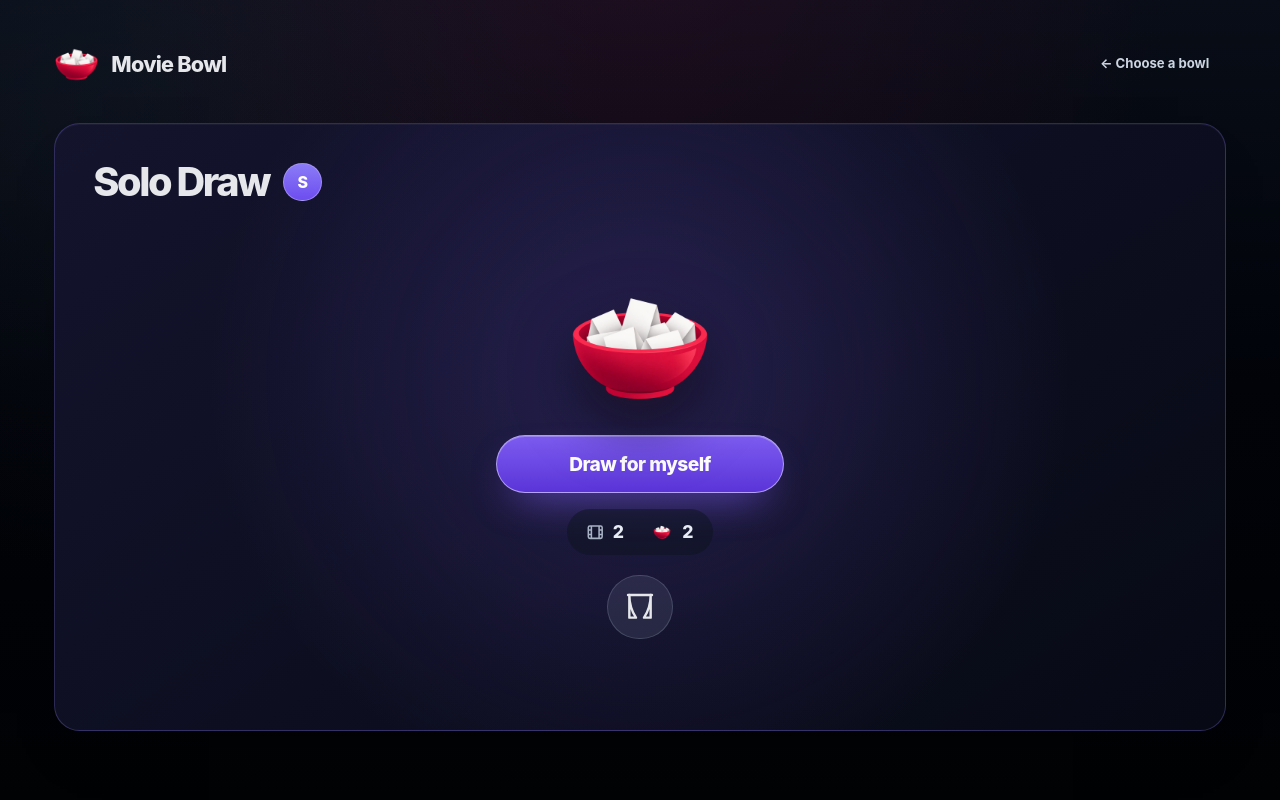
Test case: TV solo draw › opens the scope sheet from the line that reports the pool
The image size is (1280, 800).
Click the button named "change bowls and streaming" at (640, 532), box [567, 509, 713, 555]
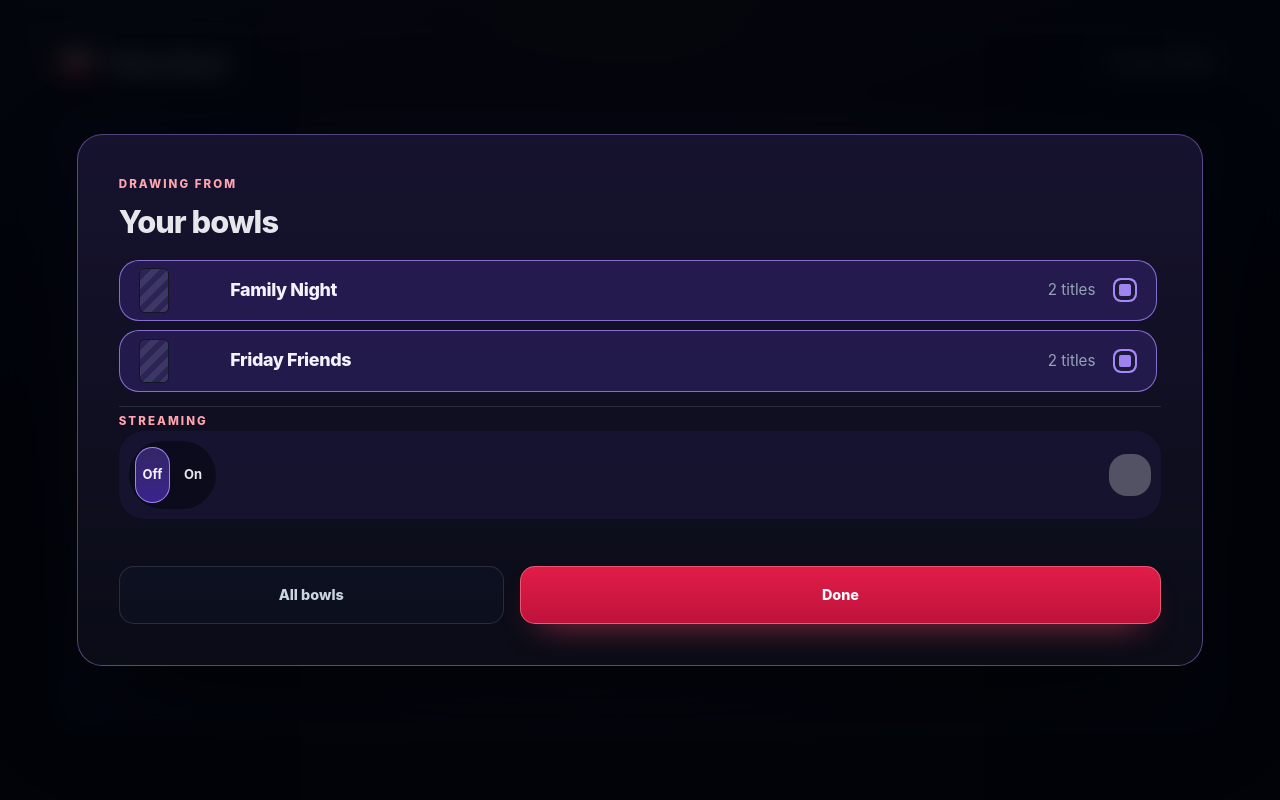
Now the dialog shows "Your bowls", box [119, 203, 278, 240]
Now the element named "streaming" is shown, box [129, 441, 216, 509]
